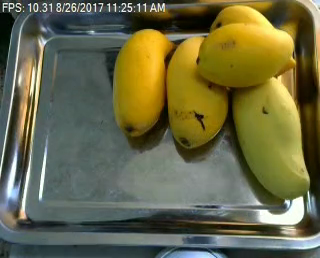Mango: (233, 74, 308, 196), (109, 27, 172, 135), (167, 38, 228, 148), (198, 23, 295, 86), (209, 5, 295, 75)
